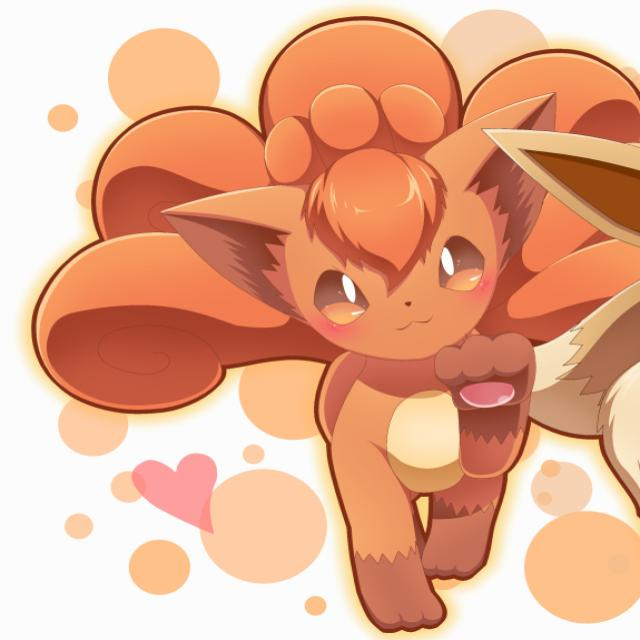Vulpix: (189, 20, 563, 620)
